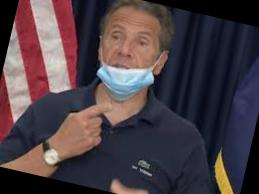mask_weared_incorrect: (96, 21, 164, 95)
